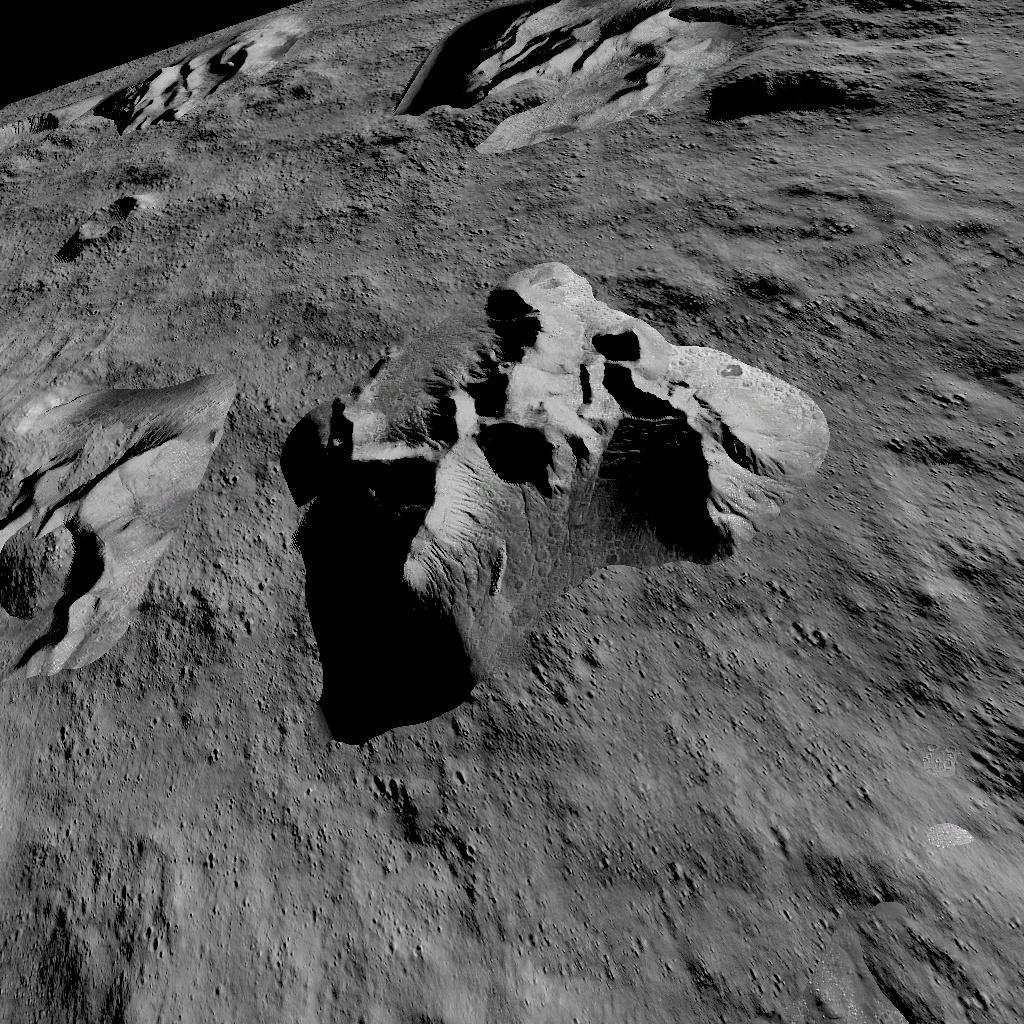Boulders: (275, 254, 825, 741), (0, 350, 236, 708), (398, 0, 888, 165), (92, 29, 272, 130)
Crater: (42, 187, 160, 261), (0, 94, 83, 170), (283, 81, 313, 106)
Plan surface: (4, 763, 1024, 1021), (843, 184, 1024, 746), (203, 164, 390, 250)
